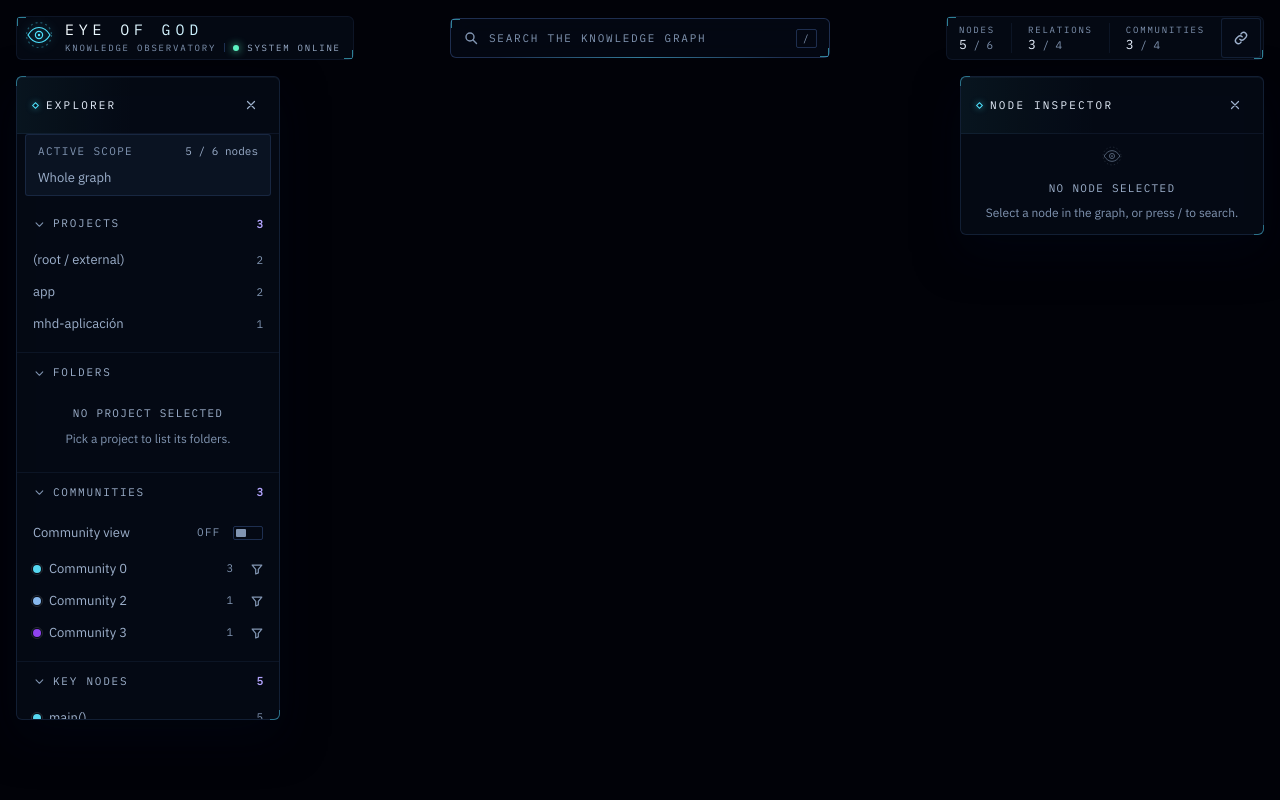
Scenario: explorer → store → graph › the active row is pressed, and pressing it again goes back to the whole graph
The width and height of the screenshot is (1280, 800).
What coordinates should you click on to do the following:
click the button named "Show only Community 0"
I would click on:
 (257, 568)
Its box is [243,554,271,582].
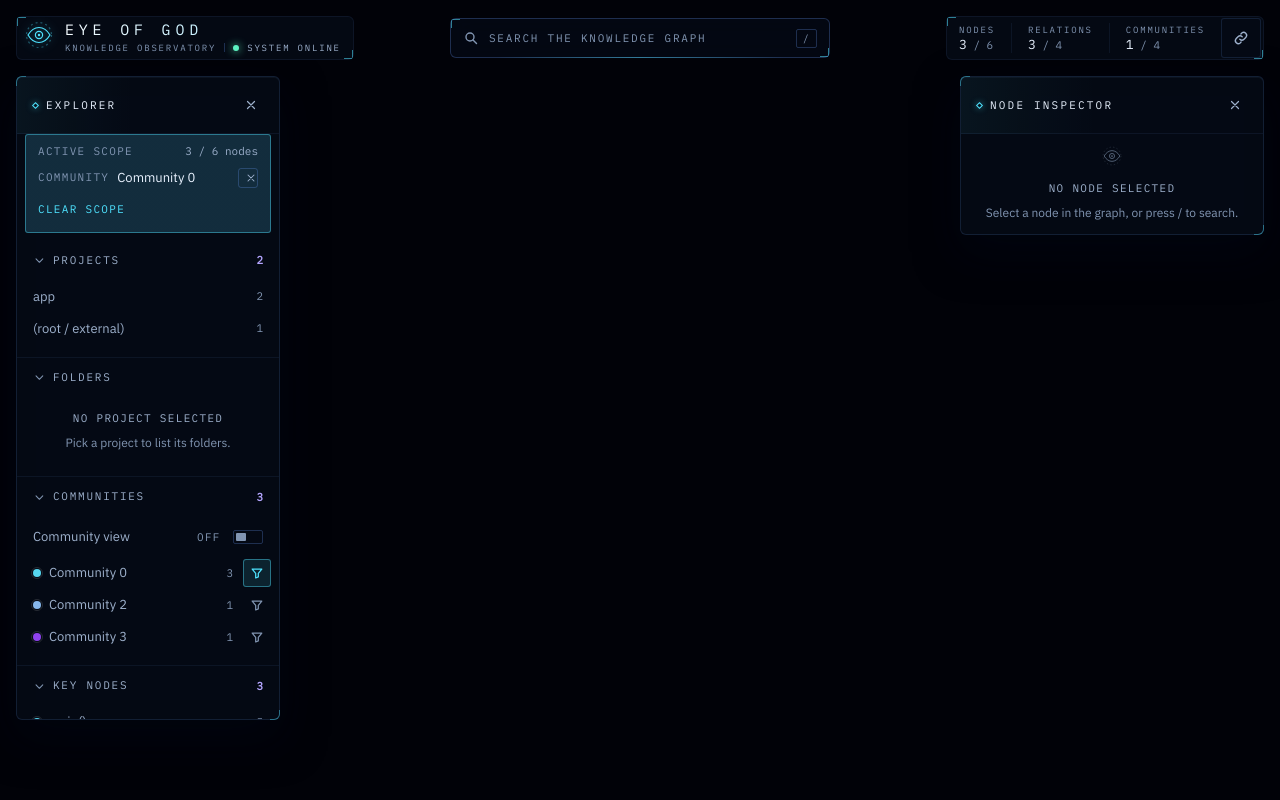
Now the text "Community" is shown, box [38,169,109,186]
What coordinates should you click on to do the following:
click the button named "Show only Community 0"
I would click on:
 (257, 573)
Its box is [243,559,271,587].
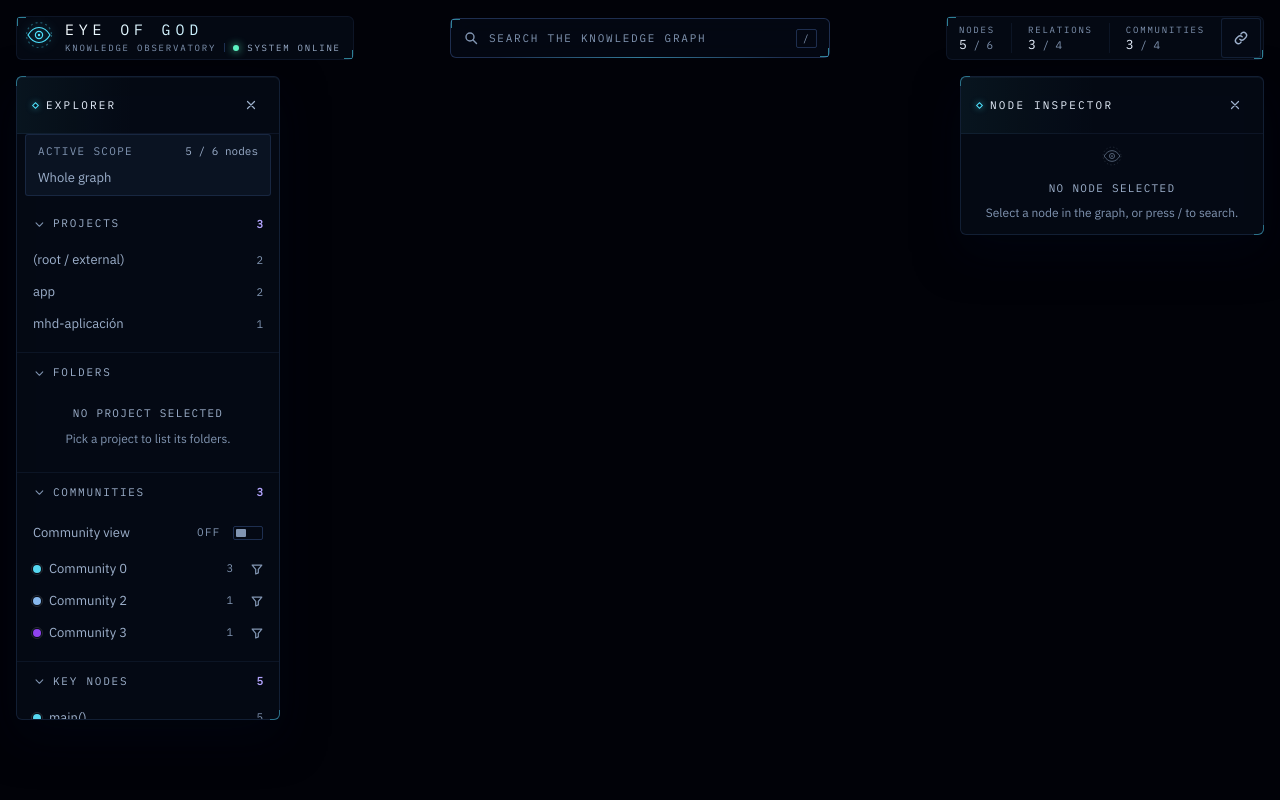
Now the text "Whole graph" is shown, box [38,168,111,186]
